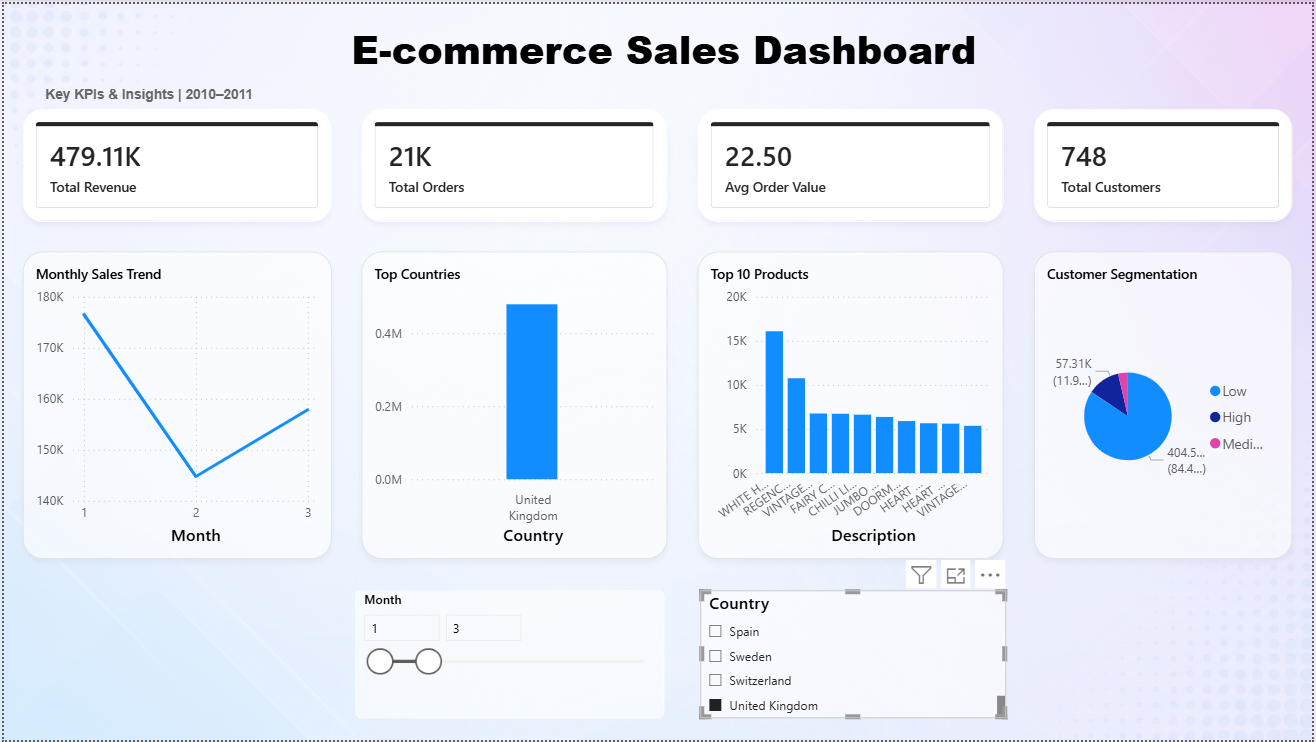

The page's visual inventory and layout, read from the dashboard file:
{"tool":"powerbi","page":{"name":"Page 1","canvas":[1280,720],"ordinal":0},"visuals":[{"type":"cardVisual","fields":{"Data":["cleaned_ecommerce_data.Total Orders"]},"box":[349.7,102.7,299.6,110.1],"z":0},{"type":"cardVisual","fields":{"Data":["cleaned_ecommerce_data.Total Revenue"]},"box":[18.3,102.7,302,110.1],"z":1000},{"type":"cardVisual","fields":{"Data":["cleaned_ecommerce_data.Avg Order Value"]},"box":[678.7,102.7,299.6,110.1],"z":2000},{"type":"cardVisual","fields":{"Data":["cleaned_ecommerce_data.Total Customers"]},"box":[1007.6,102.7,253.1,110.1],"z":3000},{"type":"lineChart","title":"Monthly Sales Trend","fields":{"Category":["cleaned_ecommerce_data.Month"],"Y":["cleaned_ecommerce_data.Total Revenue"]},"box":[18.3,242.1,302,300.8],"z":4000},{"type":"columnChart","title":"Top Countries","fields":{"Category":["cleaned_ecommerce_data.Country"],"Y":["cleaned_ecommerce_data.Total Revenue"]},"box":[349.7,242.1,299.6,300.8],"z":5000},{"type":"columnChart","title":"Top 10 Products","fields":{"Category":["cleaned_ecommerce_data.Description"],"Y":["cleaned_ecommerce_data.Total Revenue"]},"box":[678.7,242.1,299.6,300.8],"z":6000},{"type":"pieChart","title":"Customer Segmentation","fields":{"Category":["cleaned_ecommerce_data.Customer Type"],"Y":["cleaned_ecommerce_data.Total Revenue"]},"box":[1007.6,242.1,253.1,300.8],"z":7000},{"type":"slicer","fields":{"Values":["cleaned_ecommerce_data.Month"]},"box":[343.6,573.5,302,124.7],"z":8000},{"type":"slicer","fields":{"Values":["cleaned_ecommerce_data.Country"]},"box":[681.1,573.5,299.6,124.7],"z":9000},{"type":"textbox","box":[15.9,13.5,1259.5,62.4],"z":10000},{"type":"textbox","box":[35.5,73.4,221.3,29.3],"z":11000}]}

Visuals, with their boxes in screenshot pixels (x1, y1, x2, y2), scaled from the page's 1280x720 canvas onto the 1316x742 screenshot:
cardVisual - cleaned_ecommerce_data.Total Orders: (360, 106, 668, 219)
cardVisual - cleaned_ecommerce_data.Total Revenue: (19, 106, 329, 219)
cardVisual - cleaned_ecommerce_data.Avg Order Value: (698, 106, 1006, 219)
cardVisual - cleaned_ecommerce_data.Total Customers: (1036, 106, 1296, 219)
"Monthly Sales Trend" lineChart: (19, 249, 329, 559)
"Top Countries" columnChart: (360, 249, 668, 559)
"Top 10 Products" columnChart: (698, 249, 1006, 559)
"Customer Segmentation" pieChart: (1036, 249, 1296, 559)
slicer - cleaned_ecommerce_data.Month: (353, 591, 664, 720)
slicer - cleaned_ecommerce_data.Country: (700, 591, 1008, 720)
textbox: (16, 14, 1311, 78)
textbox: (36, 76, 264, 106)
